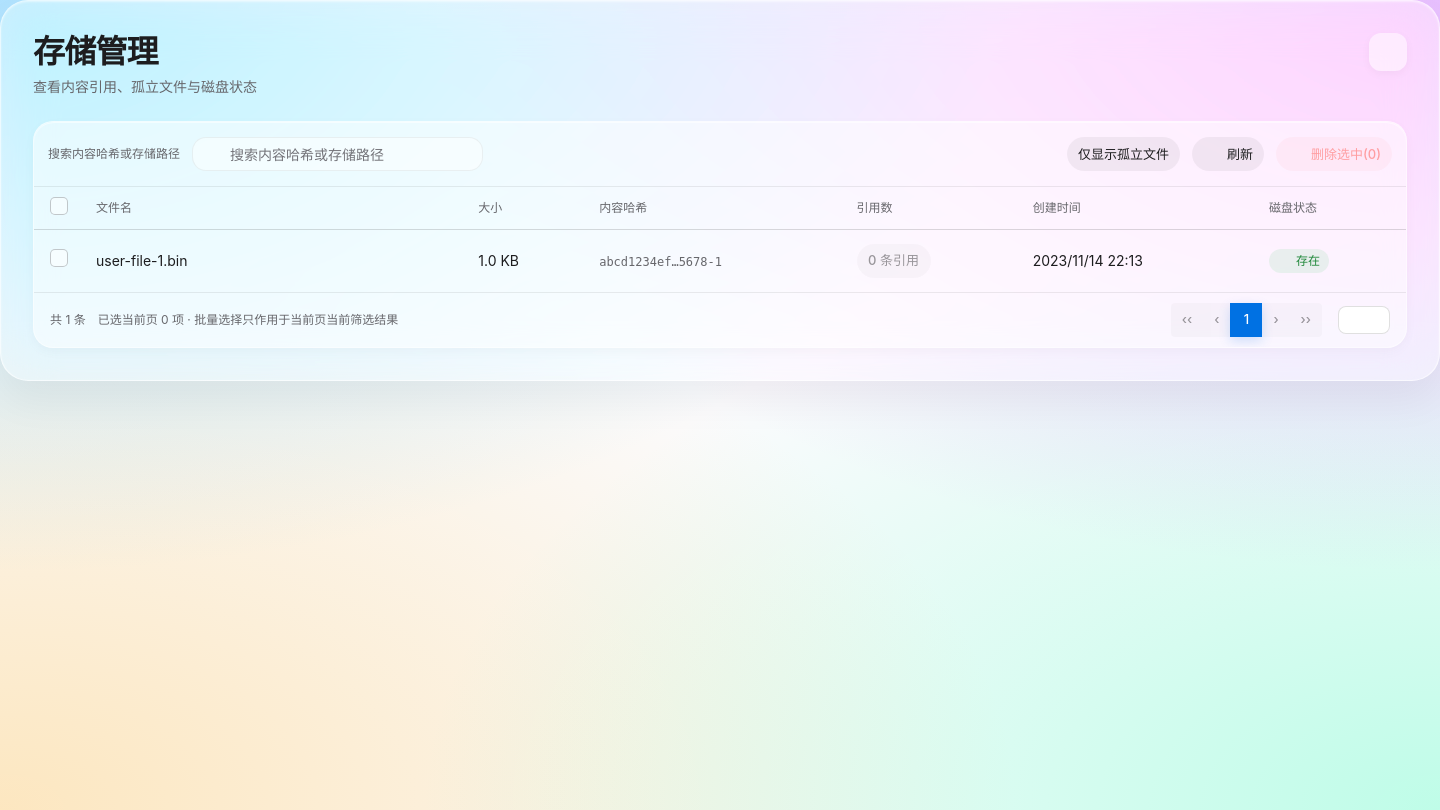
Test: StoragePage Demo 列表与筛选 › 空结果重置筛选同步清理全部条件且只发一笔必要请求
The image size is (1440, 810).
Expected: the row with test id "storage-row-1" is shown, x1=34 y1=229 x2=1406 y2=292
Click the button "仅显示孤立文件" at (1124, 154), box x1=1067 y1=137 x2=1180 y2=171
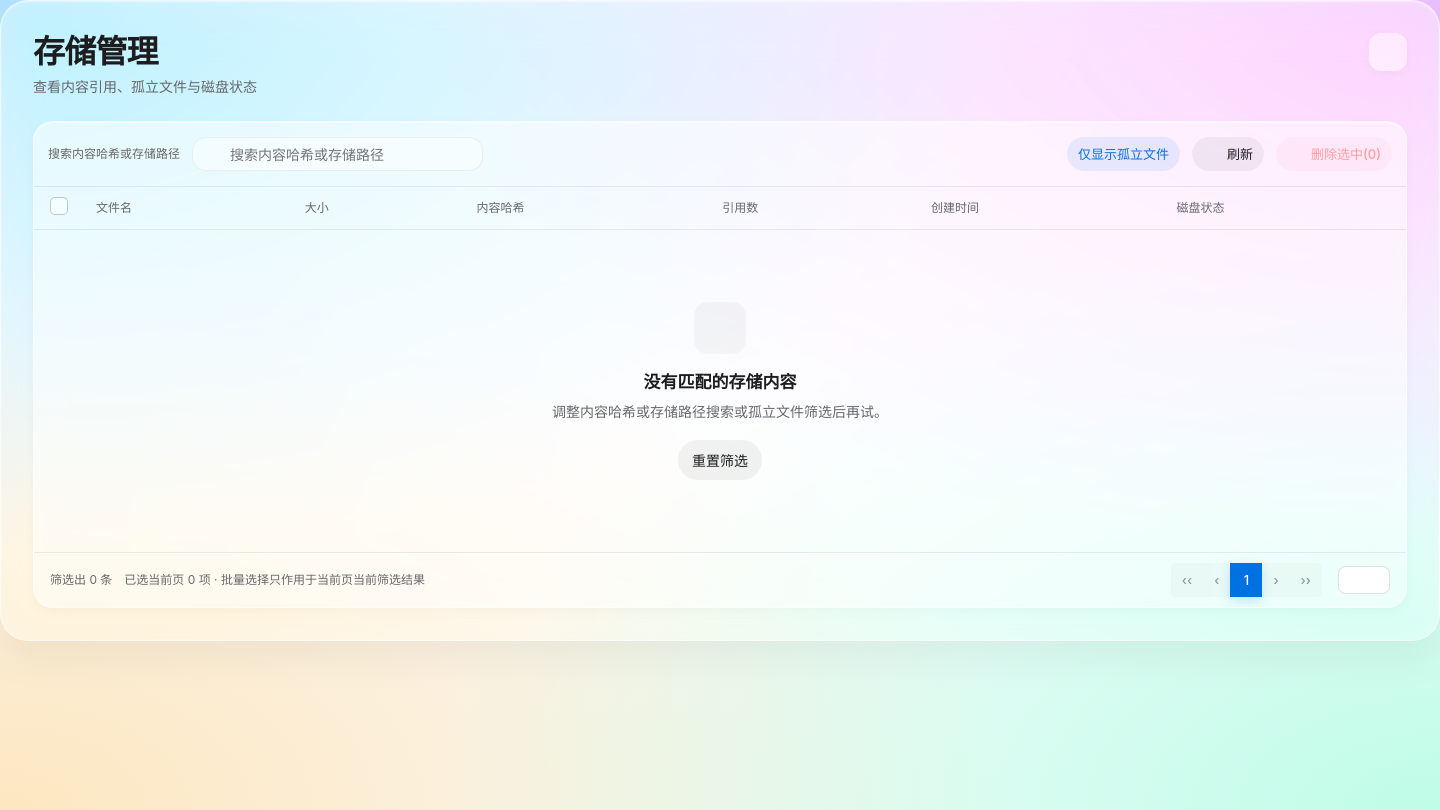
Now the heading "没有匹配的存储内容" is shown, box x1=644 y1=370 x2=796 y2=395
Type "key-pending" into the search field labelled "搜索内容哈希或存储路径" at (338, 154), box x1=192 y1=137 x2=483 y2=171
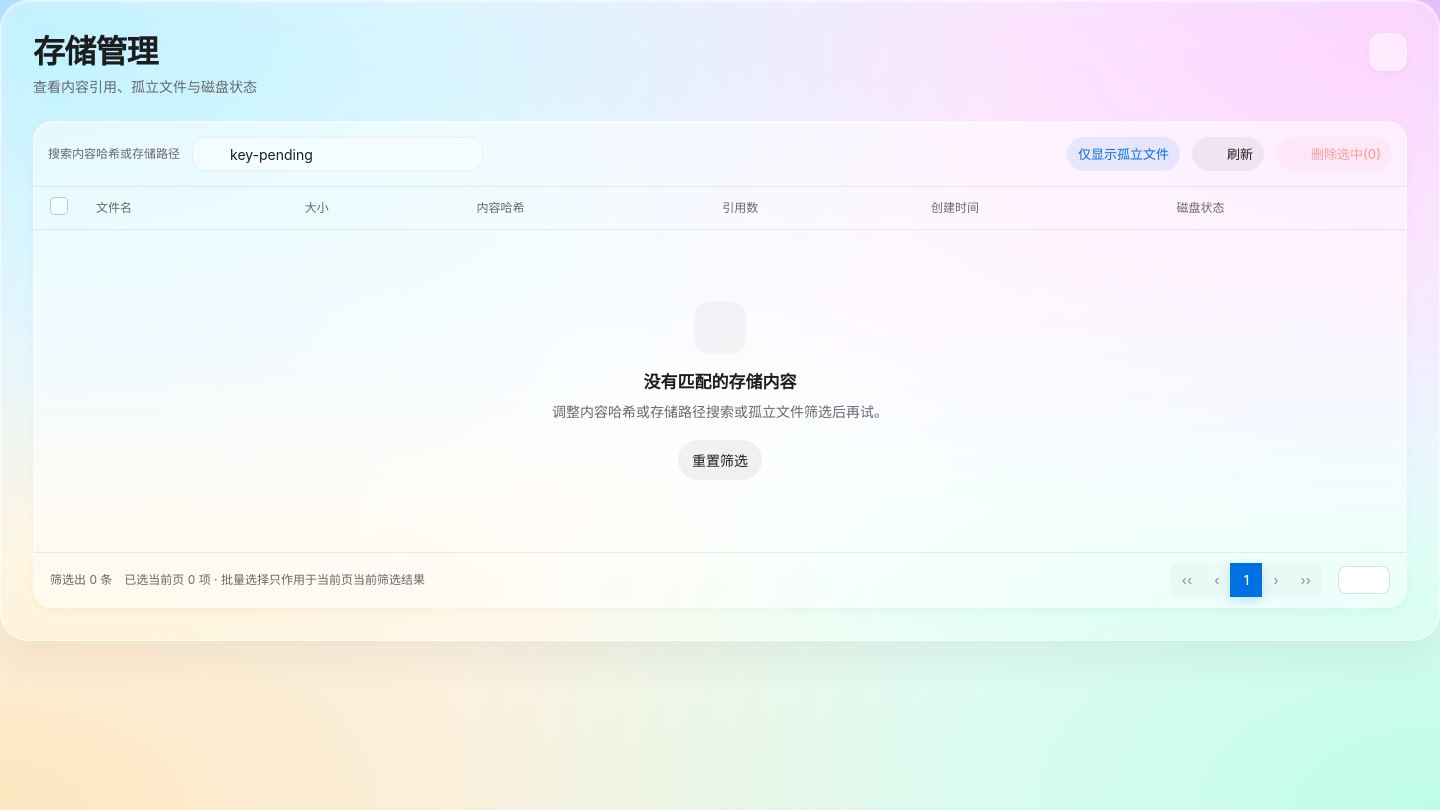
Click the button "重置筛选" at (720, 460), box x1=678 y1=440 x2=762 y2=480
Wait 400 ms
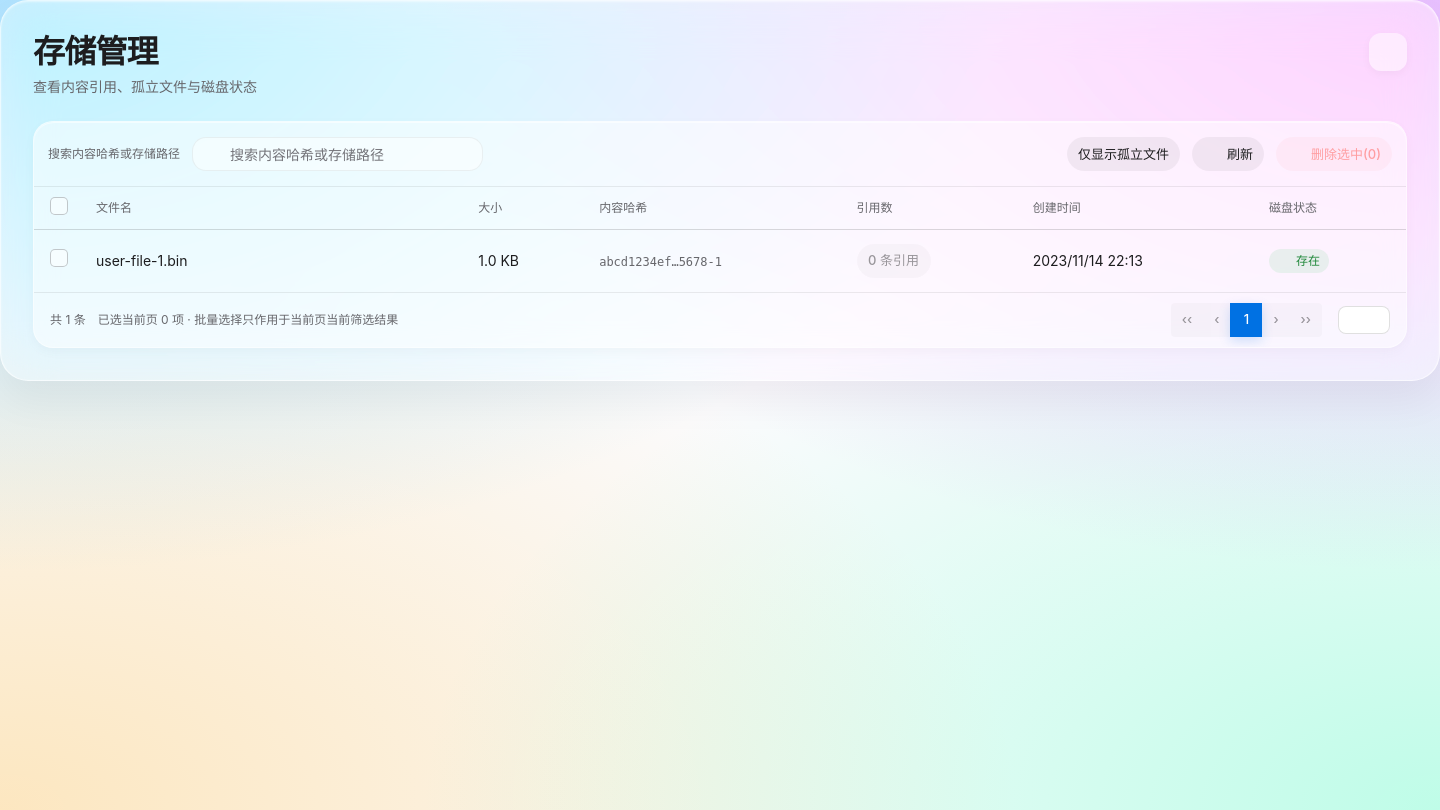
Now the search field labelled "搜索内容哈希或存储路径" is empty, box x1=192 y1=137 x2=483 y2=171
Now the row with test id "storage-row-1" is shown, box x1=34 y1=229 x2=1406 y2=292
